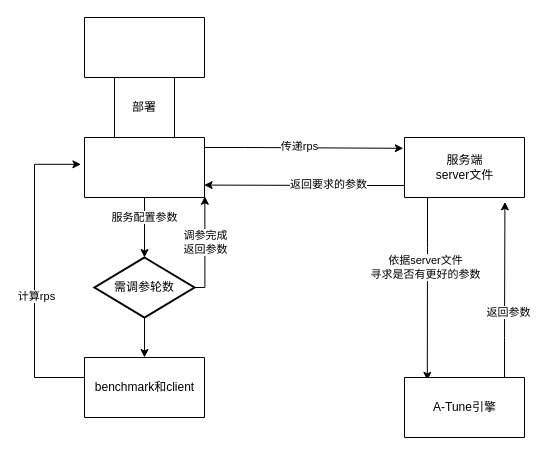
The diagram is 547 pixels wide and 455 high, and some of its shapes have lost their labels. The shapes that lost their labels are listed below. From the top down, each one's centre as x and y in pixels, then its label:
At point 144,47: "需调优服务 （eg:Nginx）".
At point 144,167: "客户端".
